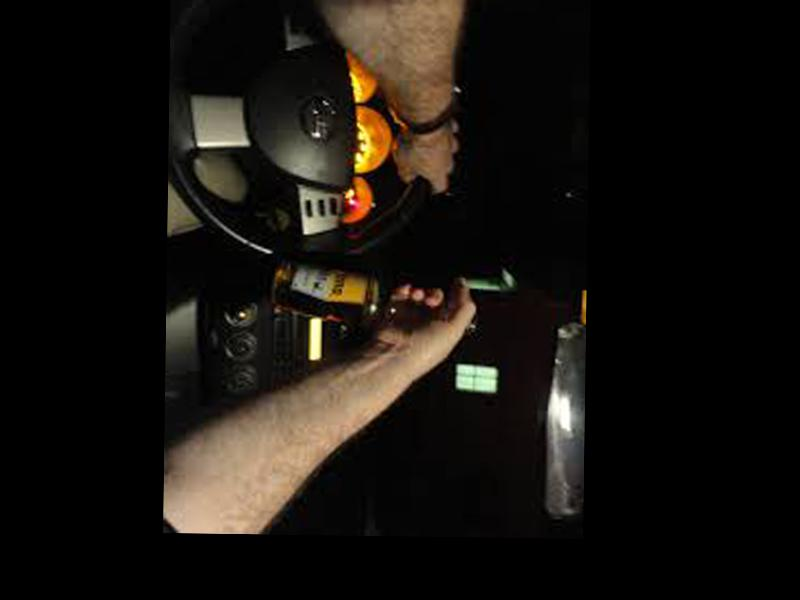Beer: (273, 253, 476, 336)
